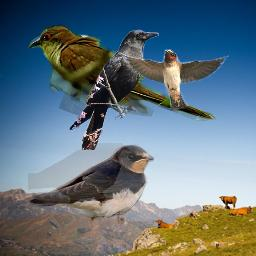Crow: (69, 29, 159, 150)
Cuckoo: (28, 24, 216, 121)
Swallow: (28, 143, 154, 224), (118, 49, 229, 111)
